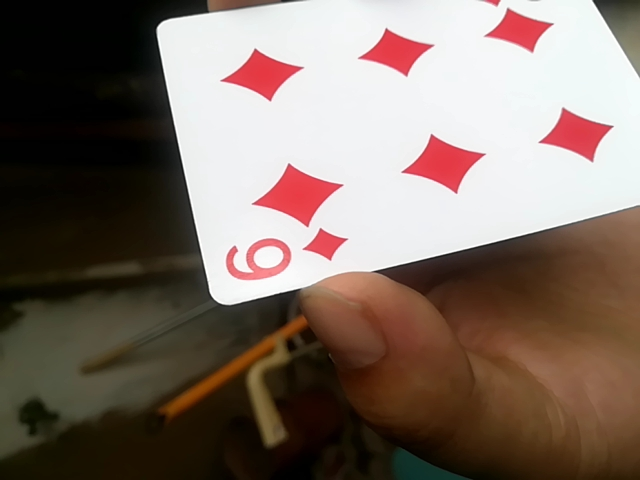fk 6: (143, 0, 640, 315)
